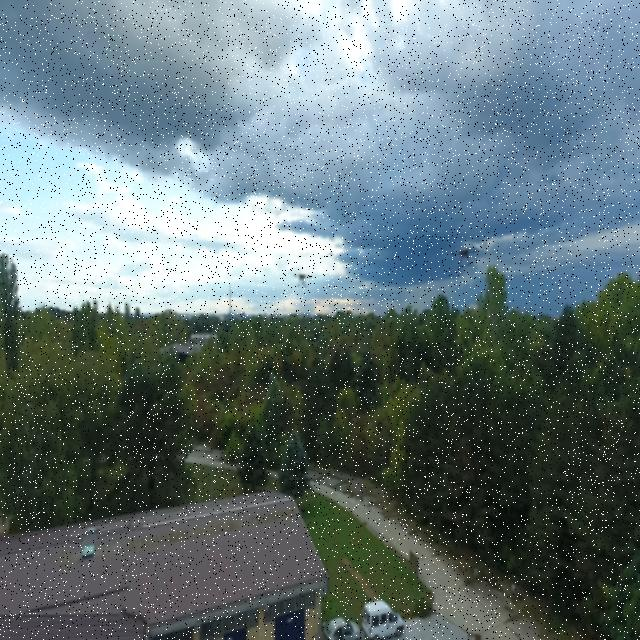UAV: (447, 242, 486, 271), (280, 269, 324, 292)
